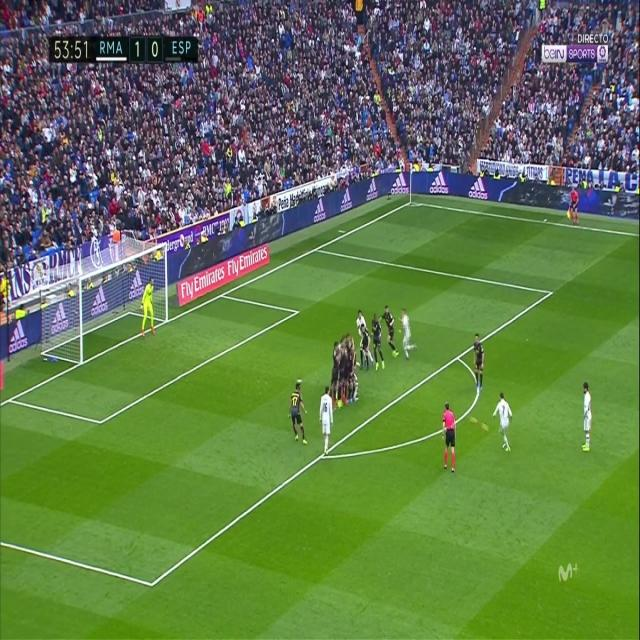Ball: (469, 410, 478, 430)
Goalkeeper: (138, 272, 156, 349)
Player: (287, 380, 312, 447), (493, 389, 515, 455), (316, 385, 333, 463), (579, 379, 595, 455), (398, 303, 418, 360), (382, 303, 398, 361), (372, 311, 386, 376), (472, 332, 486, 391), (360, 323, 373, 368), (331, 338, 341, 388), (355, 308, 367, 324)
Referee: (441, 400, 459, 478), (568, 184, 581, 228)
